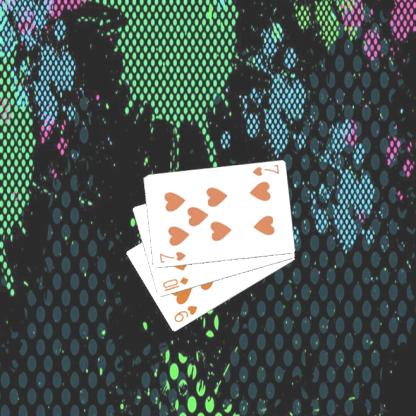10D: (159, 274, 190, 293)
7H: (249, 162, 280, 178), (156, 249, 187, 264)
9H: (170, 303, 198, 324)
